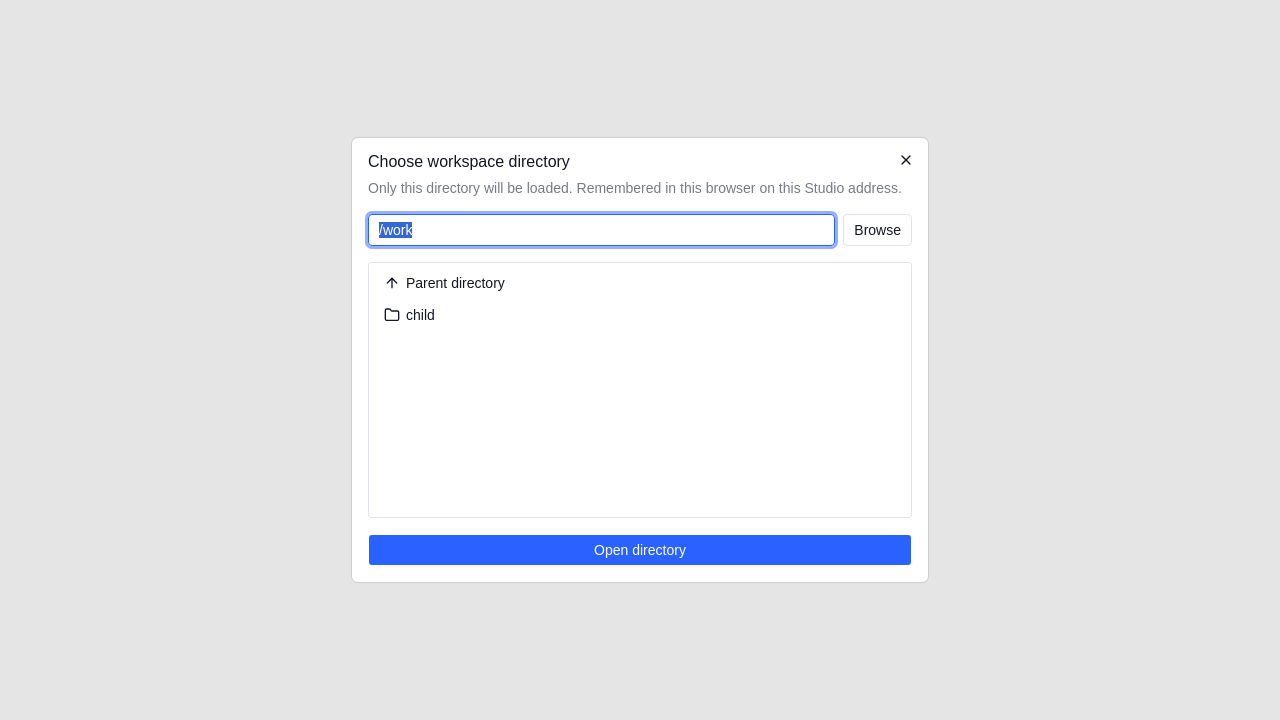
Test: UI-W04: selection failure remains visible and permits retry without losing the path
Expected: the button "child" is shown, 373,299 -> 907,331
Click the button "Open directory" at (640, 550), box 368,534 -> 912,566
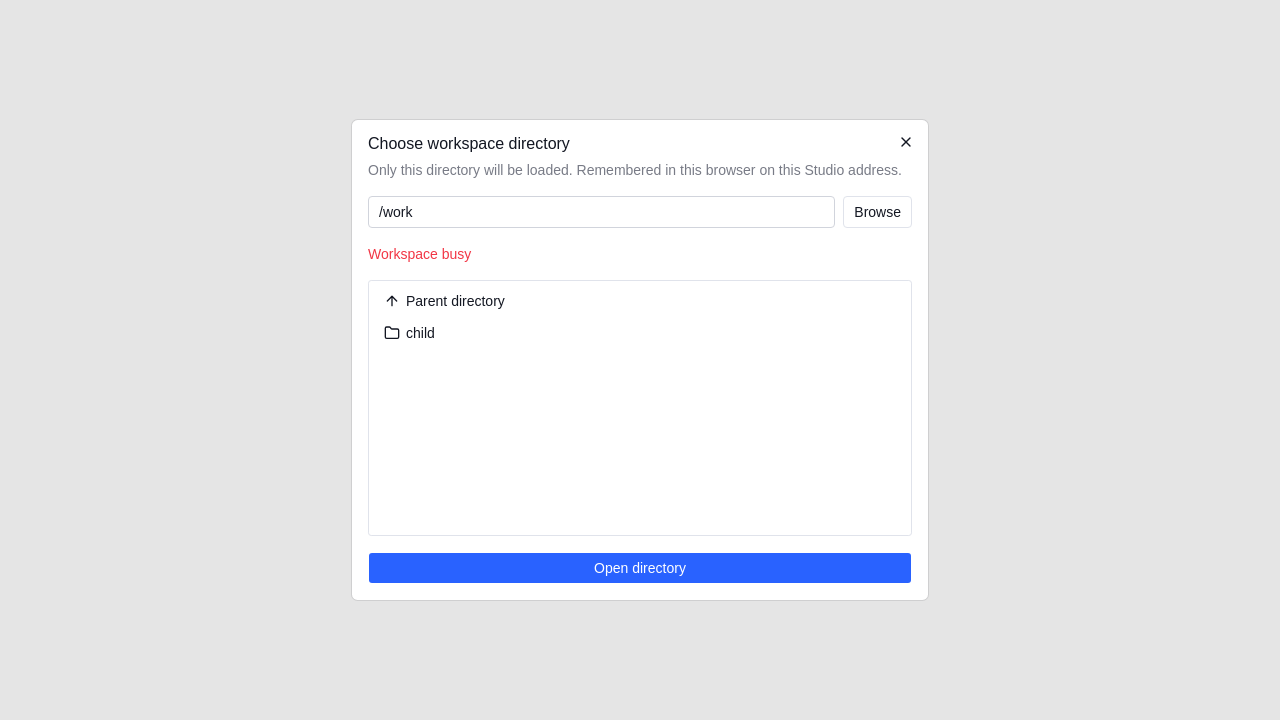
Result: the text "Workspace busy" is shown at 368,246 -> 471,262
Click the button "Open directory" at (640, 568), box 368,552 -> 912,584
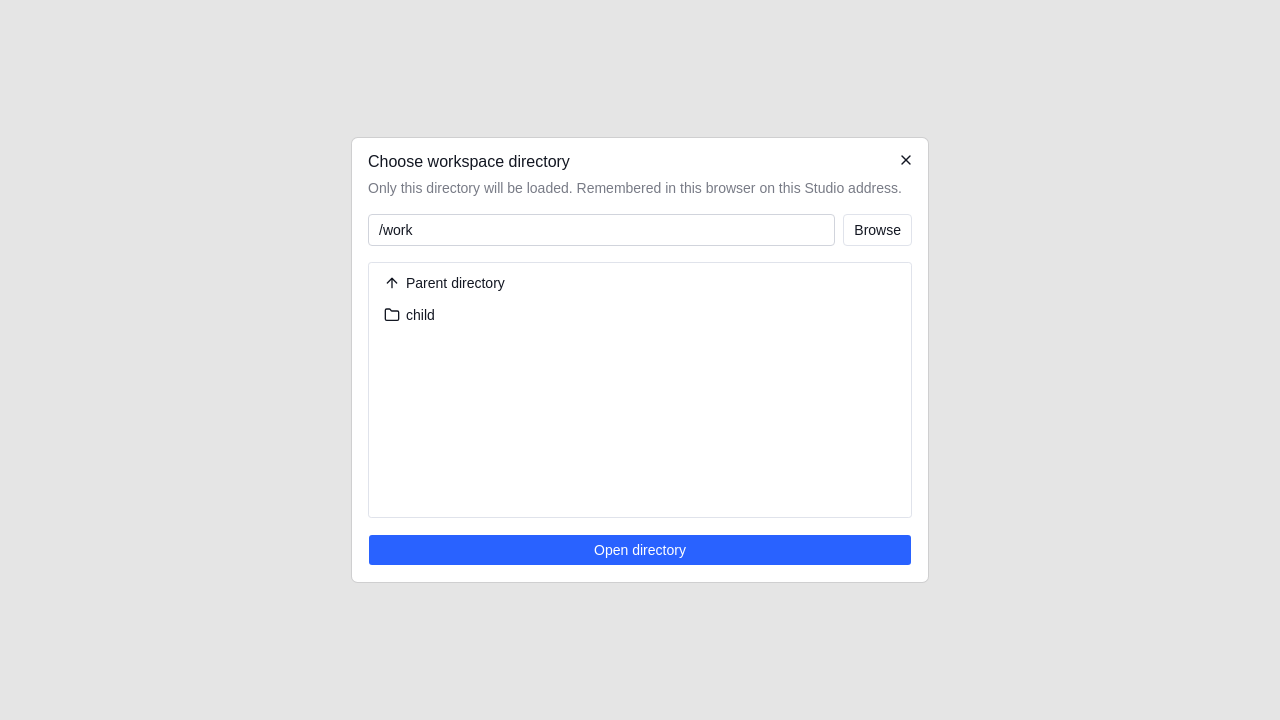
Result: the text "Workspace busy" is gone
